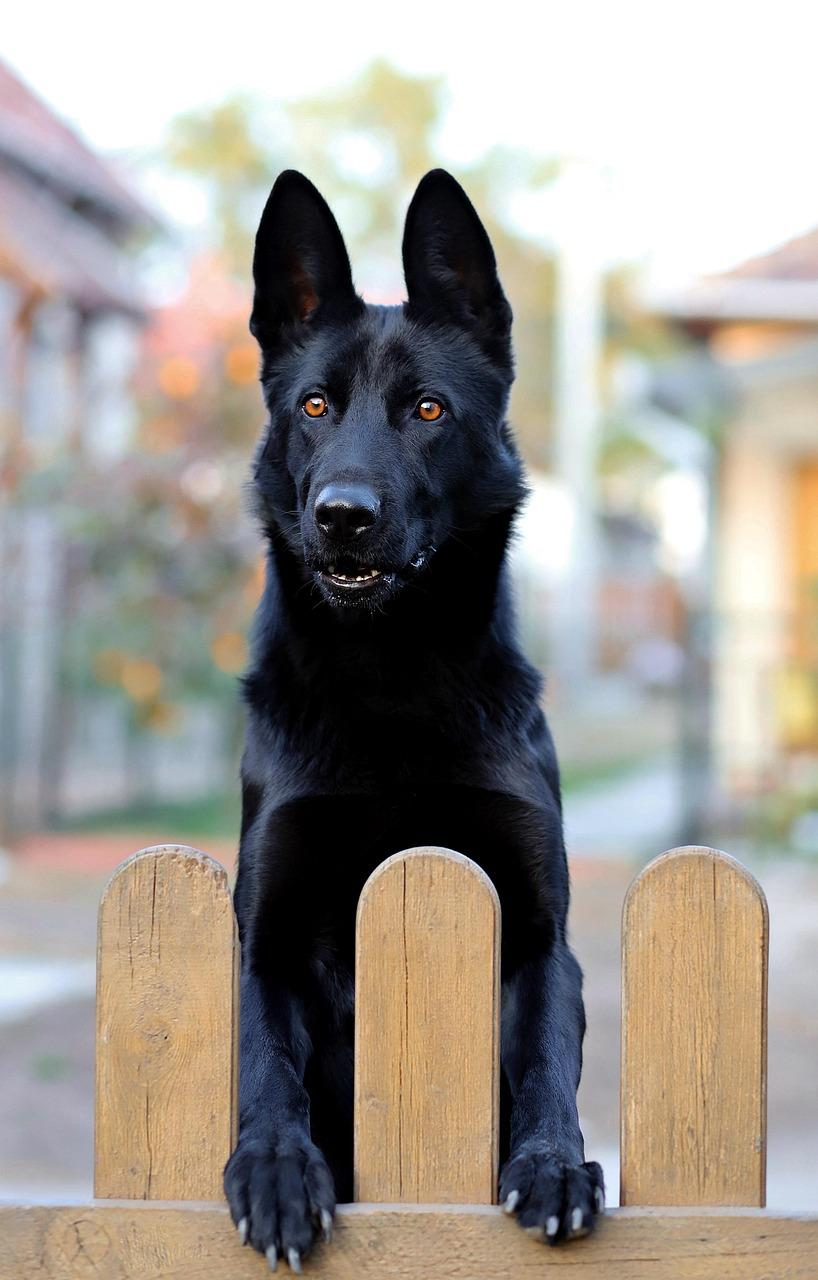german_shepherd: (232, 182, 530, 637)
